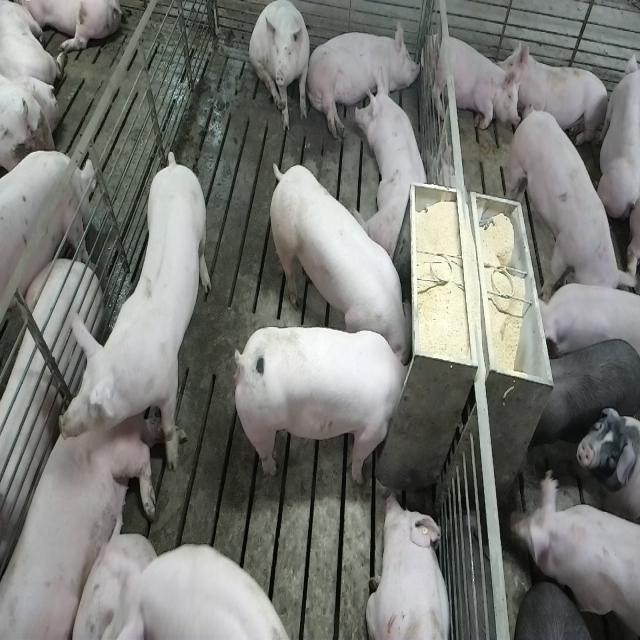Feeding: (264, 160, 412, 361), (229, 324, 410, 484)
Lateral_lying: (306, 20, 422, 140)
Sitting: (250, 1, 312, 134)
Standing: (57, 147, 210, 473), (508, 103, 631, 307), (506, 468, 637, 640), (0, 156, 95, 350), (533, 335, 639, 446), (532, 279, 640, 365)
Sternal_lying: (0, 376, 158, 640), (356, 69, 433, 259), (365, 491, 453, 640), (503, 39, 612, 152), (423, 29, 516, 134)
